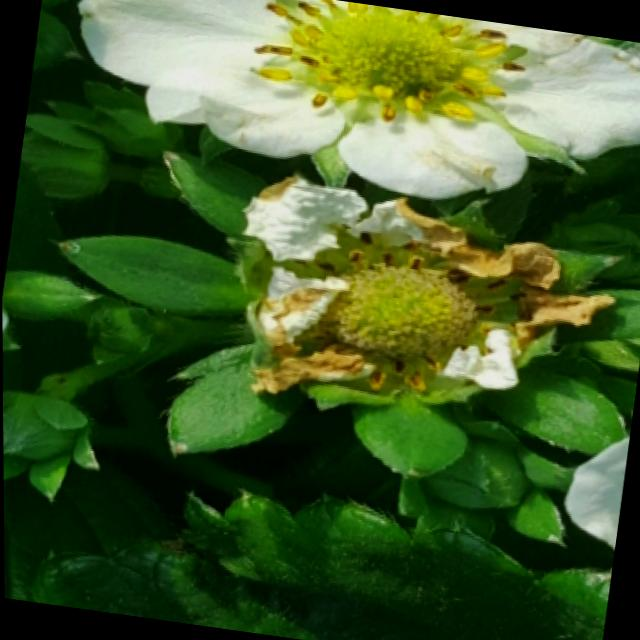Blossom Blight: (290, 220, 530, 393), (243, 0, 525, 129)
